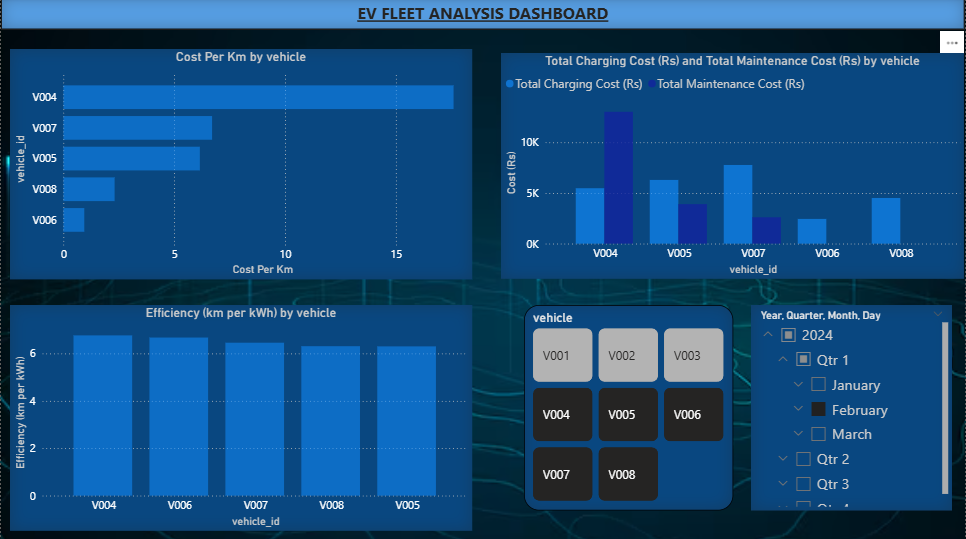

The dashboard page shown, as its layout file describes it:
{"tool":"powerbi","page":{"name":"Diagnostic comparison","canvas":[1280,720],"ordinal":1},"visuals":[{"type":"textbox","box":[0,0,1280.2,43.3],"z":0},{"type":"clusteredBarChart","title":"Cost Per Km by vehicle","fields":{"Category":["Vehicles.vehicle_id"],"Y":["Vehicles.Cost Per Km"]},"box":[12,68.7,613.9,306.2],"z":1000},{"type":"columnChart","title":"Efficiency (km per kWh) by vehicle","fields":{"Category":["Vehicles.vehicle_id"],"Y":["Vehicles.Efficiency (km per kWh)"]},"box":[12,409.3,613.9,300.2],"z":2000},{"type":"clusteredColumnChart","title":"Total Charging Cost (Rs) and Total Maintenance Cost (Rs) by vehicle","fields":{"Category":["Vehicles.vehicle_id"],"Y":["charging_sessions.Total Charging Cost (Rs)","maintenance.Total Maintenance Cost (Rs)"]},"box":[664.7,74.7,615.4,300.2],"z":3000},{"type":"advancedSlicerVisual","fields":{"Values":["Vehicles.vehicle_id"]},"box":[694.6,409.3,277.8,273.4],"z":4000},{"type":"slicer","fields":{"Values":["maintenance.service_date.Variation.Date Hierarchy.Year","maintenance.service_date.Variation.Date Hierarchy.Quarter","maintenance.service_date.Variation.Date Hierarchy.Month","maintenance.service_date.Variation.Date Hierarchy.Day"]},"box":[996.3,409.3,267.4,273.4],"z":5000}]}

Visuals, with their boxes in screenshot pixels (x1, y1, x2, y2), scaled from the page's 1280x720 canvas onto the 966x539 screenshot:
textbox: <bbox>0, 0, 965, 32</bbox>
"Cost Per Km by vehicle" clusteredBarChart: <bbox>9, 51, 472, 281</bbox>
"Efficiency (km per kWh) by vehicle" columnChart: <bbox>9, 306, 472, 531</bbox>
"Total Charging Cost (Rs) and Total Maintenance Cost (Rs) by vehicle" clusteredColumnChart: <bbox>502, 56, 965, 281</bbox>
advancedSlicerVisual - Vehicles.vehicle_id: <bbox>524, 306, 734, 511</bbox>
slicer - maintenance.service_date.Variation.Date Hierarchy.Year x maintenance.service_date.Variation.Date Hierarchy.Quarter: <bbox>752, 306, 954, 511</bbox>
